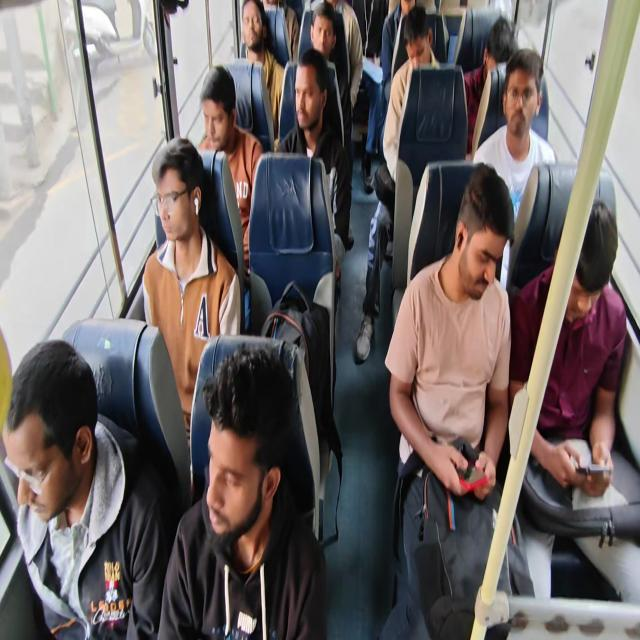person: (384, 162, 514, 638), (157, 345, 328, 639), (2, 338, 168, 638), (508, 198, 629, 600), (142, 136, 241, 456), (355, 5, 441, 363), (472, 47, 558, 289), (276, 47, 353, 293), (196, 65, 264, 272), (382, 5, 440, 182), (310, 0, 362, 182), (462, 16, 518, 154), (351, 0, 388, 193), (239, 0, 285, 139), (380, 0, 416, 109), (262, 0, 300, 64)
